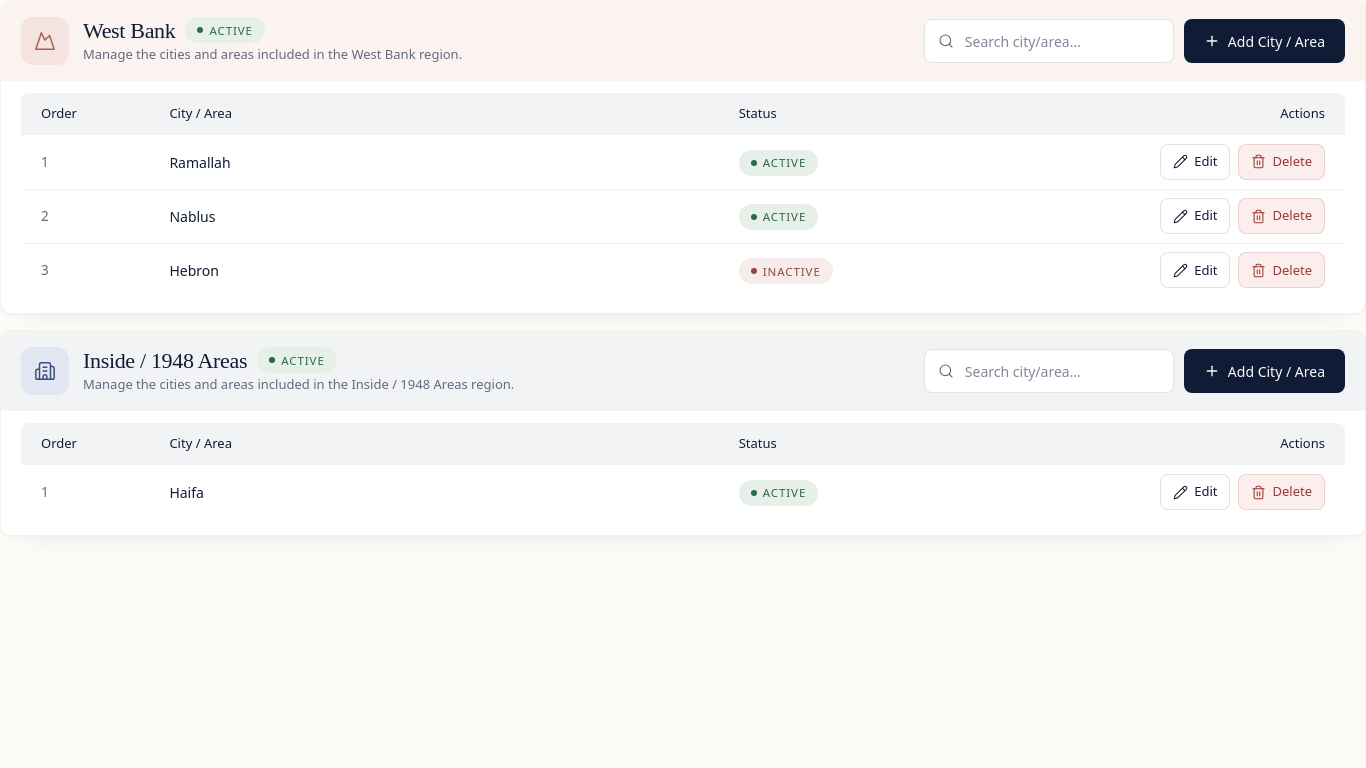
Test: search › filters one region's rows by English or Arabic name, client-side only
In the 1st search field with placeholder "Search city/area…": x=1049, y=41 [924, 19, 1174, 63], type "nab"
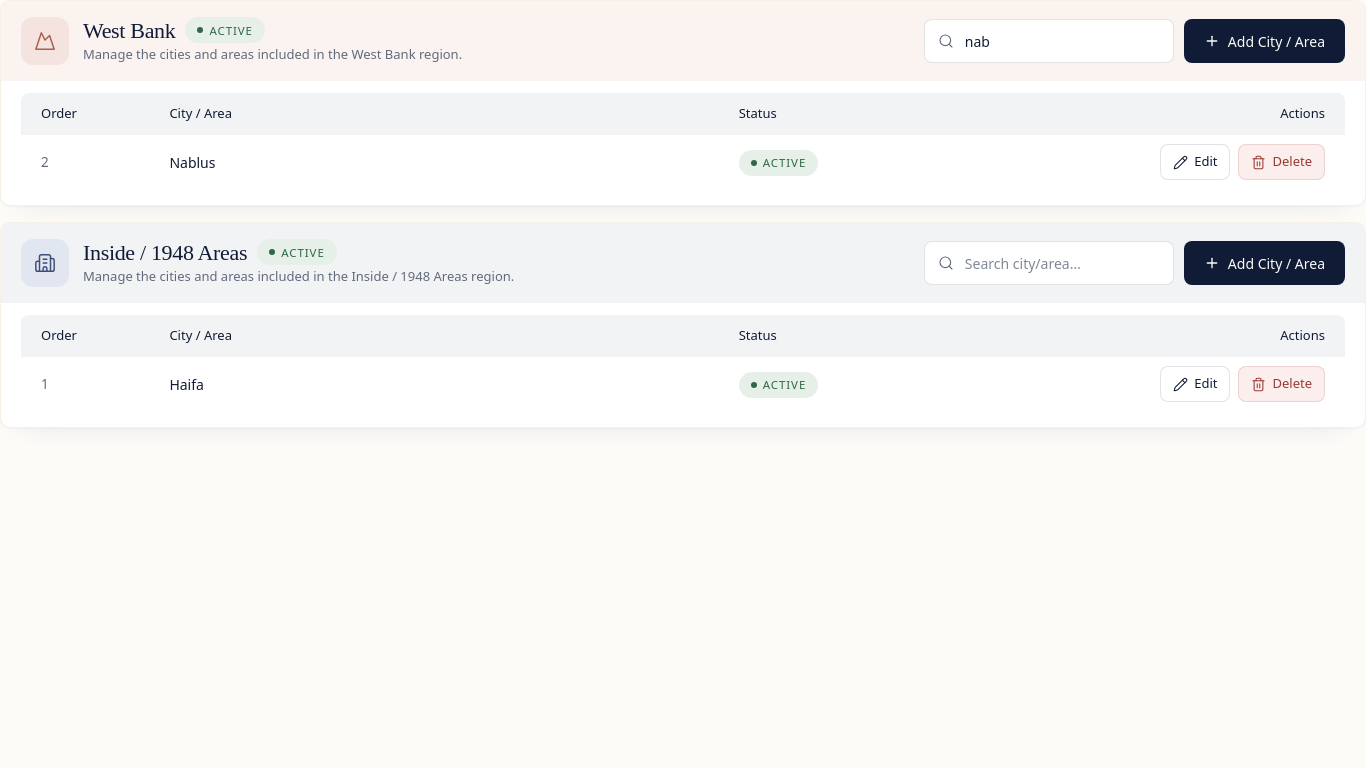
Replace the text in the 1st search field with "الخليل": x=1049, y=41 [924, 19, 1174, 63]
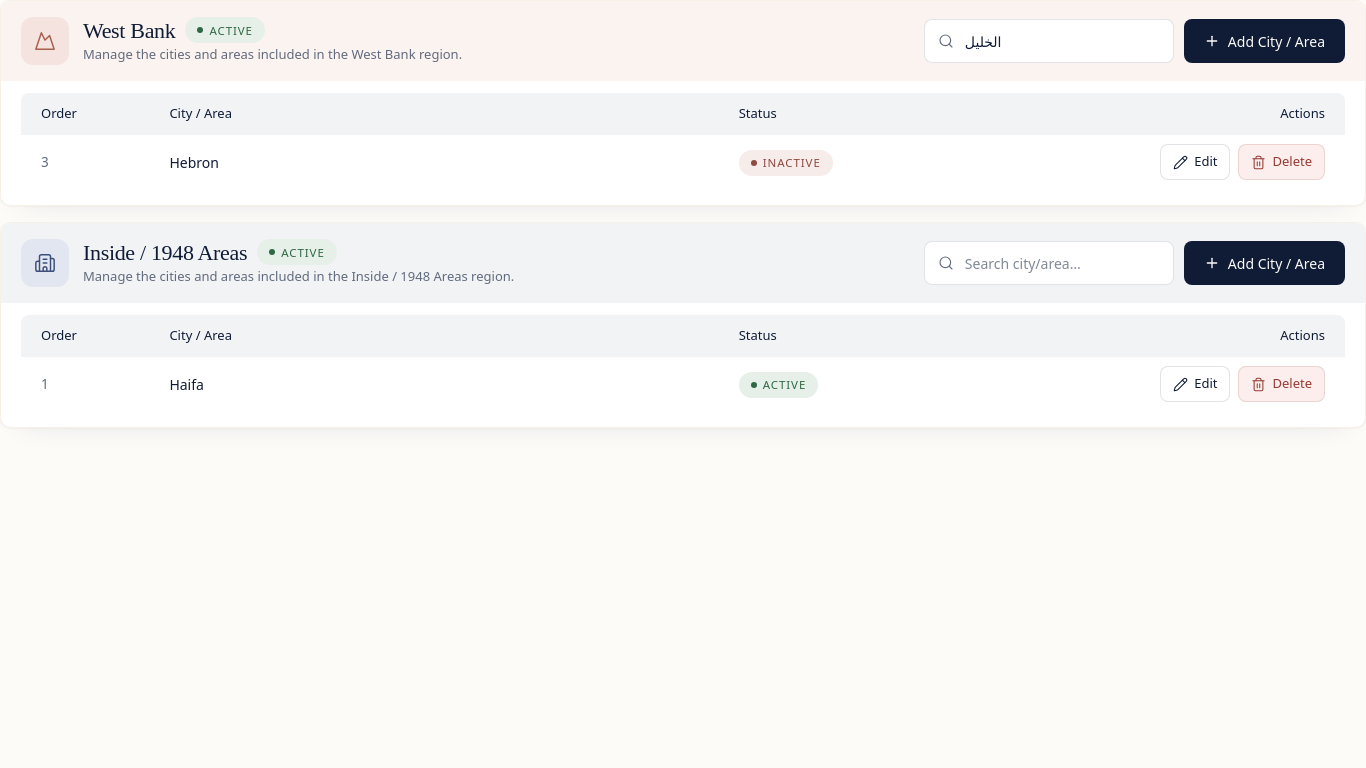
Replace the text in the 1st search field with "zzz": x=1049, y=41 [924, 19, 1174, 63]
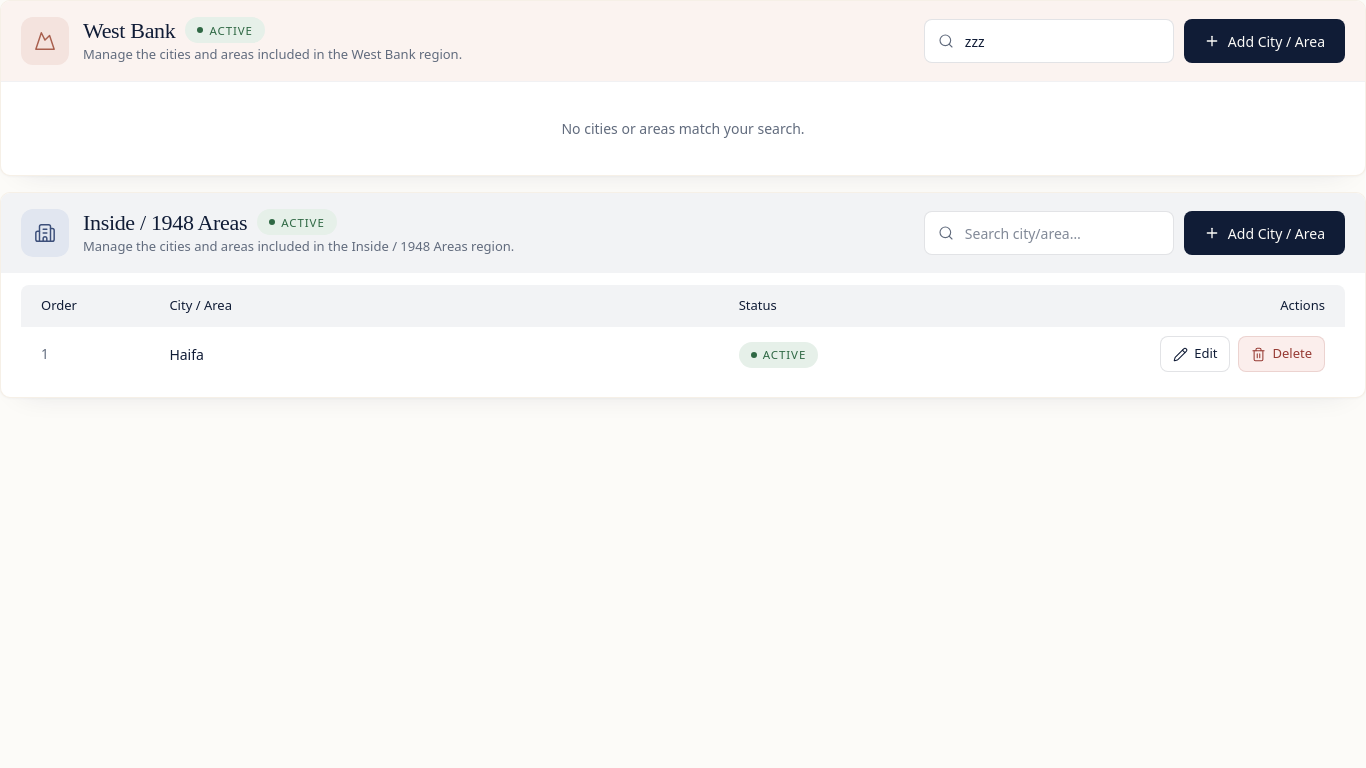
Expected: the button "Haifa" is shown, [169, 344, 204, 365]
Now the text "No cities or areas match your search." is shown, box [1, 81, 1365, 175]
